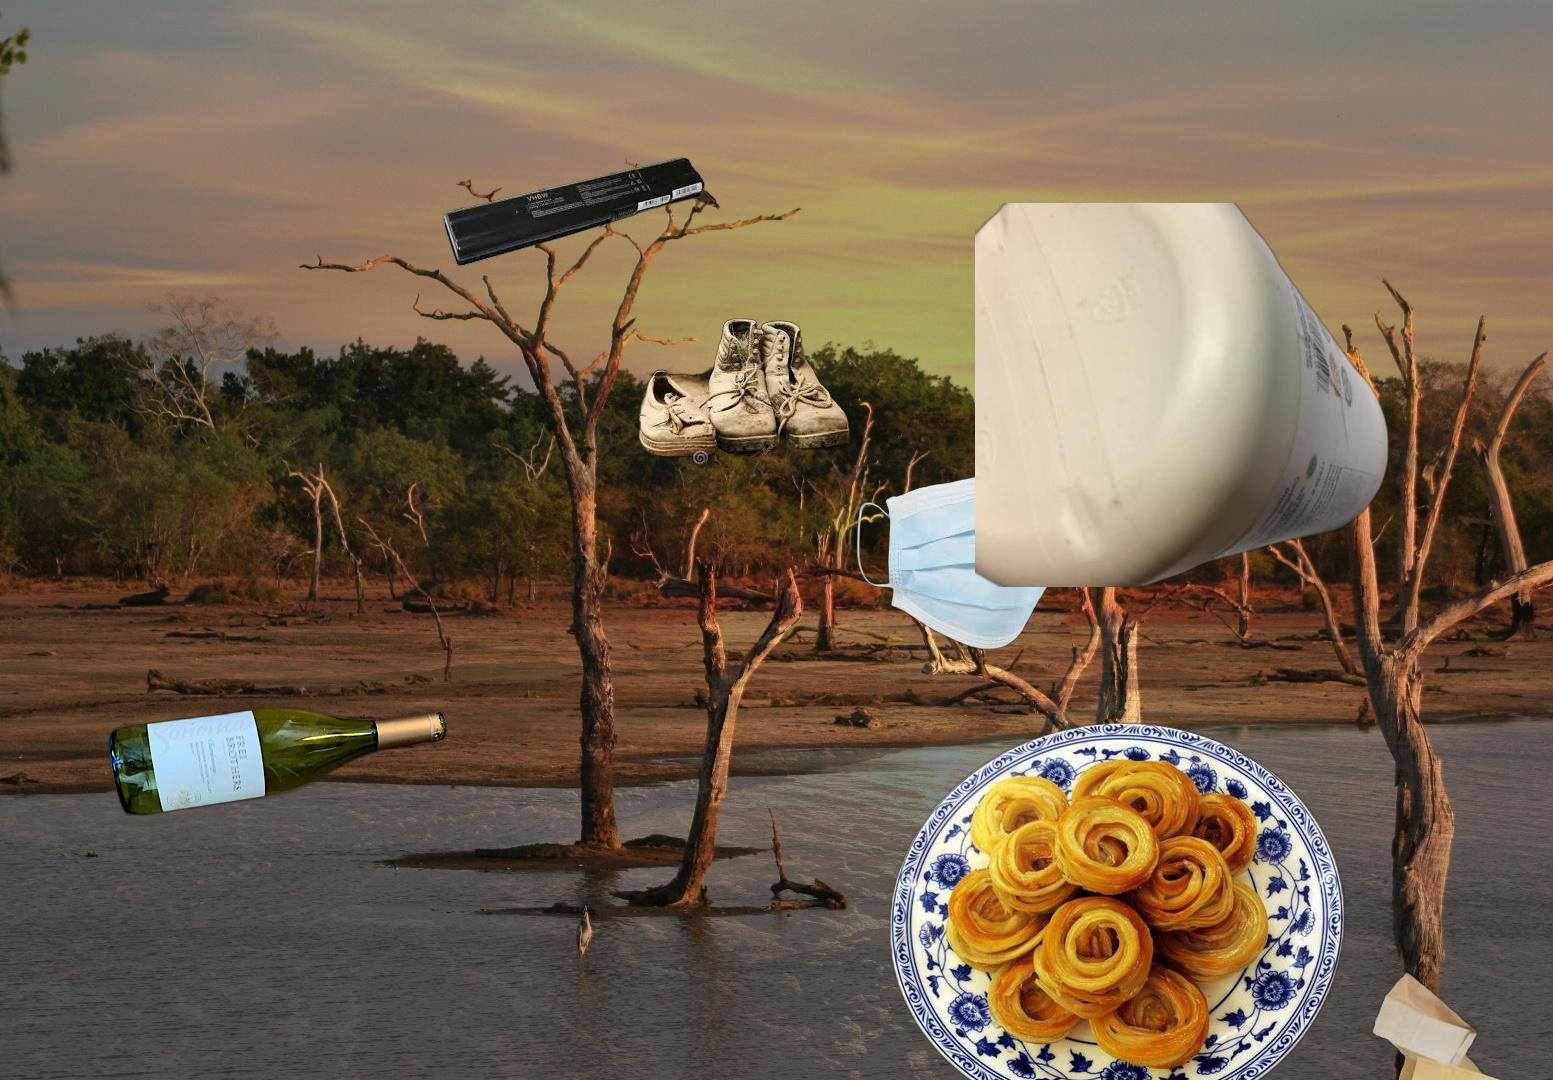battery: (441, 155, 706, 269)
biological: (885, 718, 1351, 1080)
glass: (104, 702, 528, 914)
metal-cans: (1433, 999, 1553, 1080)
paper-bag: (1370, 969, 1516, 1080)
plastic-bottles: (975, 203, 1393, 587)
shoes: (634, 316, 853, 467)
trash: (854, 466, 1074, 652)
